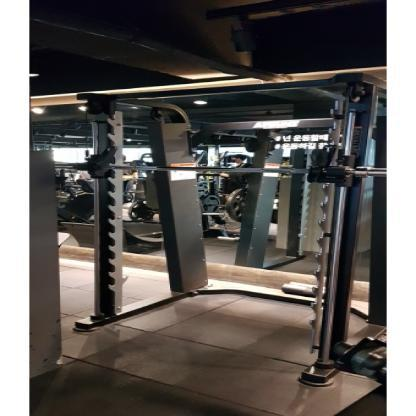smith machine: (66, 73, 386, 389)
